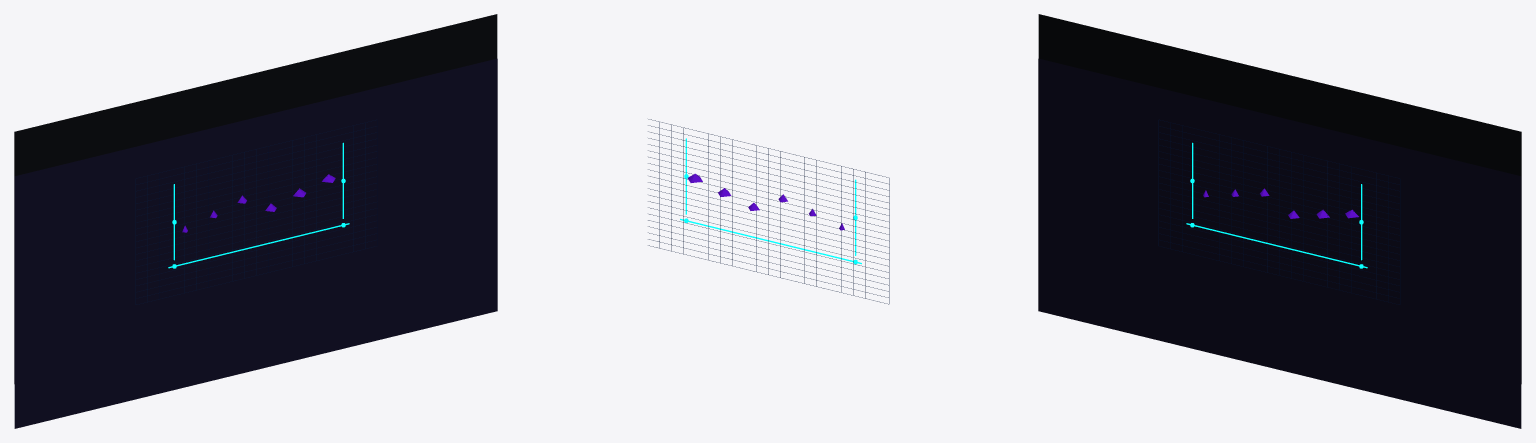
Rendered from digitalGrid.glb.
3 renders of one model, left to right at view 1: azimuth 30°, elevation 25°; view 2: azimuth 150°, elevation 25°; view 3: azimuth 330°, elevation 25°, orthographic.
Visible parts, largest first — view 1: object 2, background; view 2: no part large enough to name; view 3: object 2, background.
Part boxes in pixels (box(x1,y1,x2,y2)): object 2: box(14, 58, 497, 428); background: box(14, 14, 497, 383); object 2: box(1038, 58, 1521, 428); background: box(1038, 14, 1521, 383).
Size of the model in its own units: 4000 by 2350 by 130.
